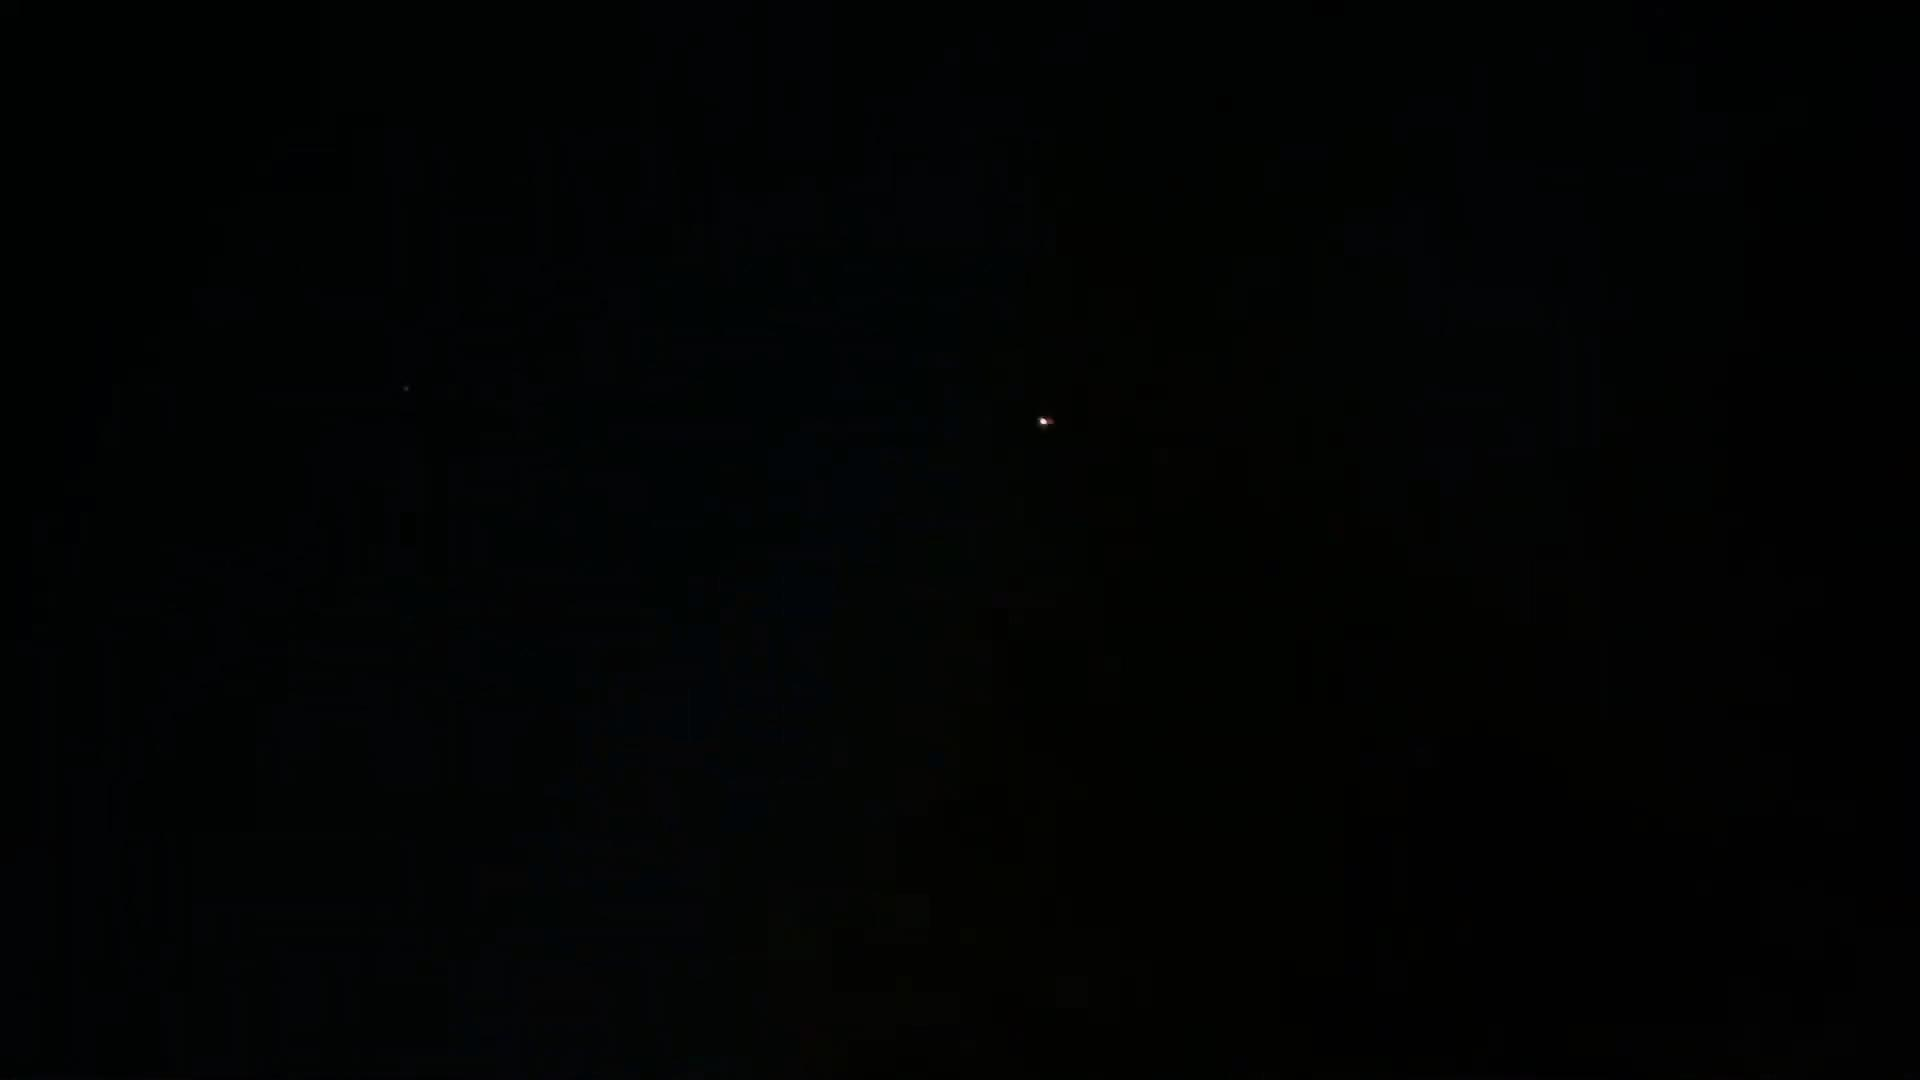Plane: (1015, 396, 1077, 451)
